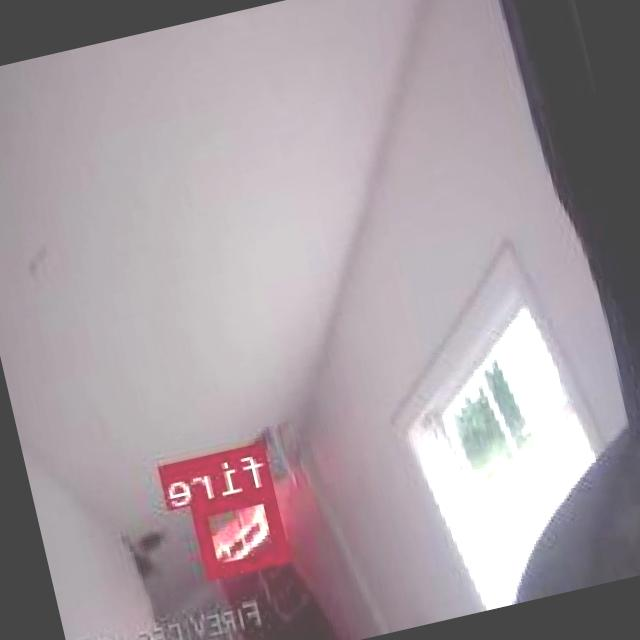fire: (195, 483, 292, 574)
